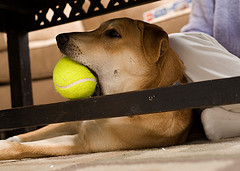tennis ball: (51, 55, 98, 98)
